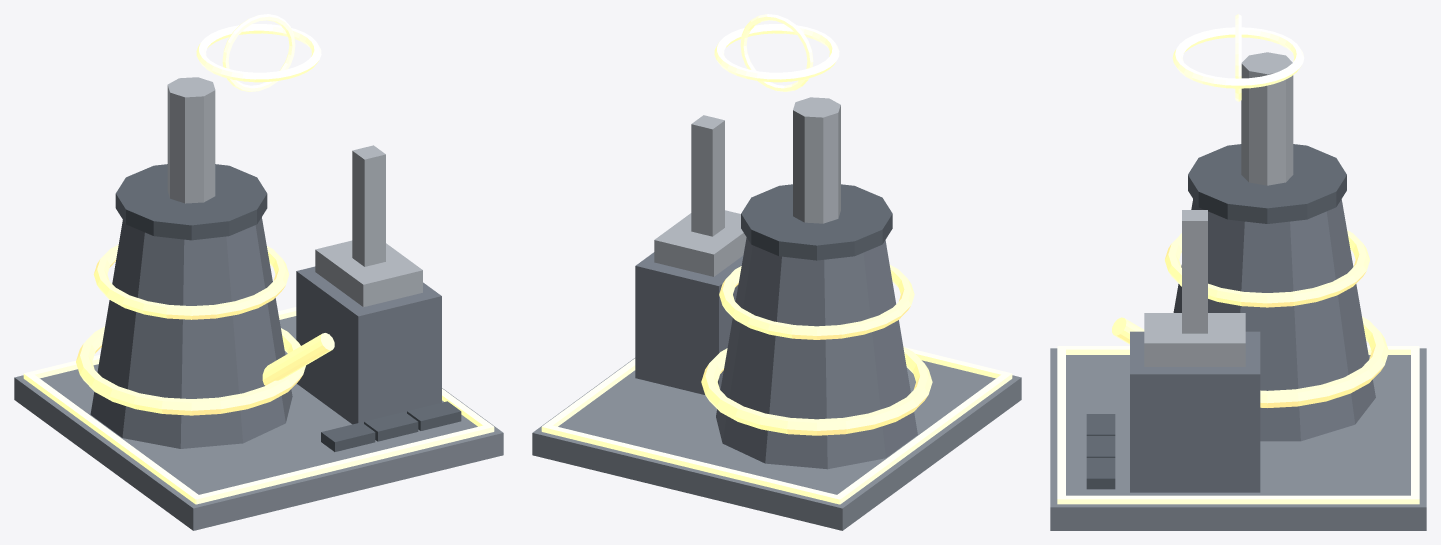
Rendered from metal_works.glb.
3 views of the same model, side by side, from view 1: azimuth 30°, elevation 25°; view 2: azimuth 150°, elevation 25°; view 3: azimuth 270°, elevation 25° (orthographic). The views are drawn at different scales.
Parts seen in each view (by area): view 1: Cone, Cube, Cube.005, Cylinder, Cylinder.001, Torus, Cube.006, Cube.007, Torus.001, Cube.001, Torus.002, Cube.002 (+6 smaller); view 2: Cone, Cube, Cube.005, Cylinder, Cylinder.001, Torus, Cube.007, Cube.006, Torus.001, Cube.003, Torus.002, Cube.002 (+3 smaller); view 3: Cube, Cone, Cube.005, Cylinder, Cylinder.001, Cube.006, Cube.004, Torus.001, Cube.007, Torus, Torus.002, Cube.001 (+7 smaller).
Boxes of the visible parts, bbox=[...] form: Cone: bbox=[90, 217, 292, 448]; Cube: bbox=[14, 316, 503, 530]; Cube.005: bbox=[296, 266, 441, 424]; Cylinder: bbox=[115, 164, 267, 240]; Cylinder.001: bbox=[167, 77, 215, 203]; Torus: bbox=[76, 326, 305, 415]; Cube.006: bbox=[315, 240, 422, 306]; Cube.007: bbox=[352, 145, 385, 266]; Torus.001: bbox=[93, 244, 289, 319]; Cube.001: bbox=[194, 425, 493, 504]; Torus.002: bbox=[196, 24, 321, 82]; Cube.002: bbox=[23, 372, 198, 504]; Cone: bbox=[716, 237, 917, 469]; Cube: bbox=[532, 358, 1021, 530]; Cube.005: bbox=[635, 252, 743, 394]; Cylinder: bbox=[741, 184, 892, 260]; Cylinder.001: bbox=[793, 97, 840, 223]; Torus: bbox=[701, 346, 932, 435]; Cube.007: bbox=[691, 115, 724, 236]; Cube.006: bbox=[654, 210, 746, 276]; Torus.001: bbox=[719, 265, 914, 339]; Cube.003: bbox=[542, 425, 840, 504]; Torus.002: bbox=[714, 24, 839, 82]; Cube.002: bbox=[836, 372, 1012, 504]; Cube: bbox=[1050, 348, 1426, 530]; Cone: bbox=[1173, 199, 1375, 441]; Cube.005: bbox=[1130, 331, 1260, 492]; Cylinder: bbox=[1188, 144, 1346, 223]; Cylinder.001: bbox=[1241, 52, 1293, 185]; Cube.006: bbox=[1144, 313, 1245, 366]; Cube.004: bbox=[1058, 495, 1418, 504]; Torus.001: bbox=[1165, 230, 1369, 307]; Cube.007: bbox=[1182, 210, 1207, 333]; Torus: bbox=[1260, 316, 1388, 407]; Torus.002: bbox=[1172, 27, 1304, 88]; Cube.001: bbox=[1057, 346, 1065, 504].
Bounding box in the file's own units: 2.6 × 3.31 × 2.6.
